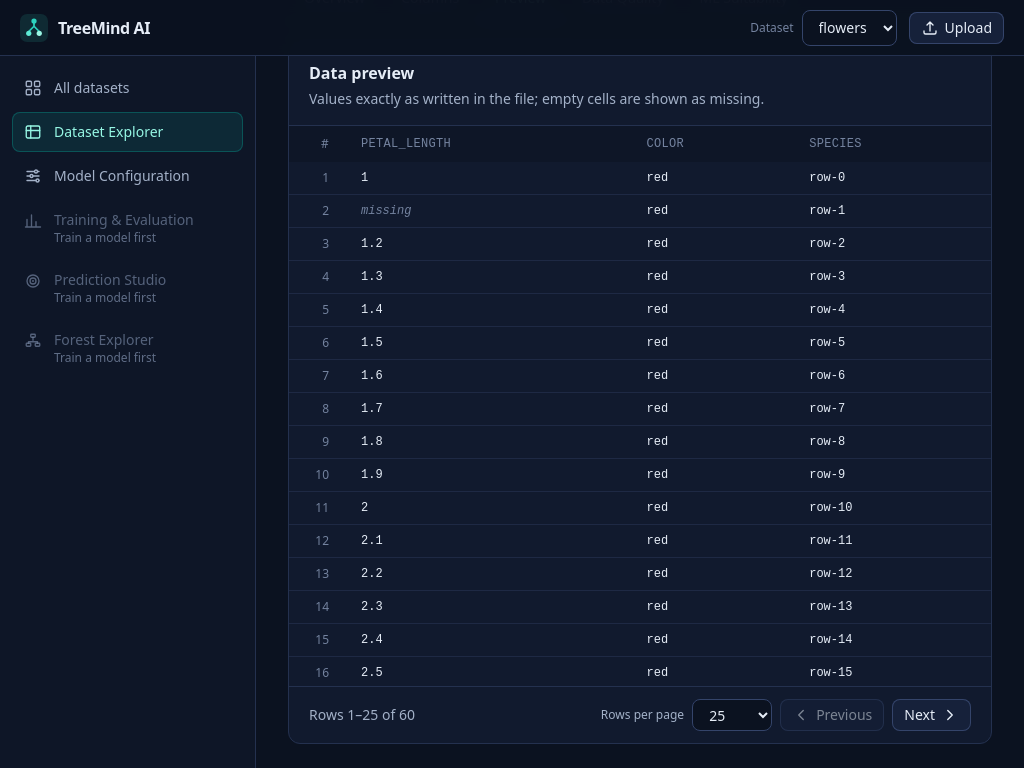
Scenario: Dataset Explorer › paginates the preview with the backend offset/limit contract
This screenshot has width=1024, height=768.
(page scrolled)
Expected: the text "row-0" is shown, left=809, top=171, right=845, bottom=185
Expected: the text "missing" is shown, left=361, top=204, right=411, bottom=218
Click the button with aria-label "Next page": (932, 715) left=892, top=699, right=971, bottom=731
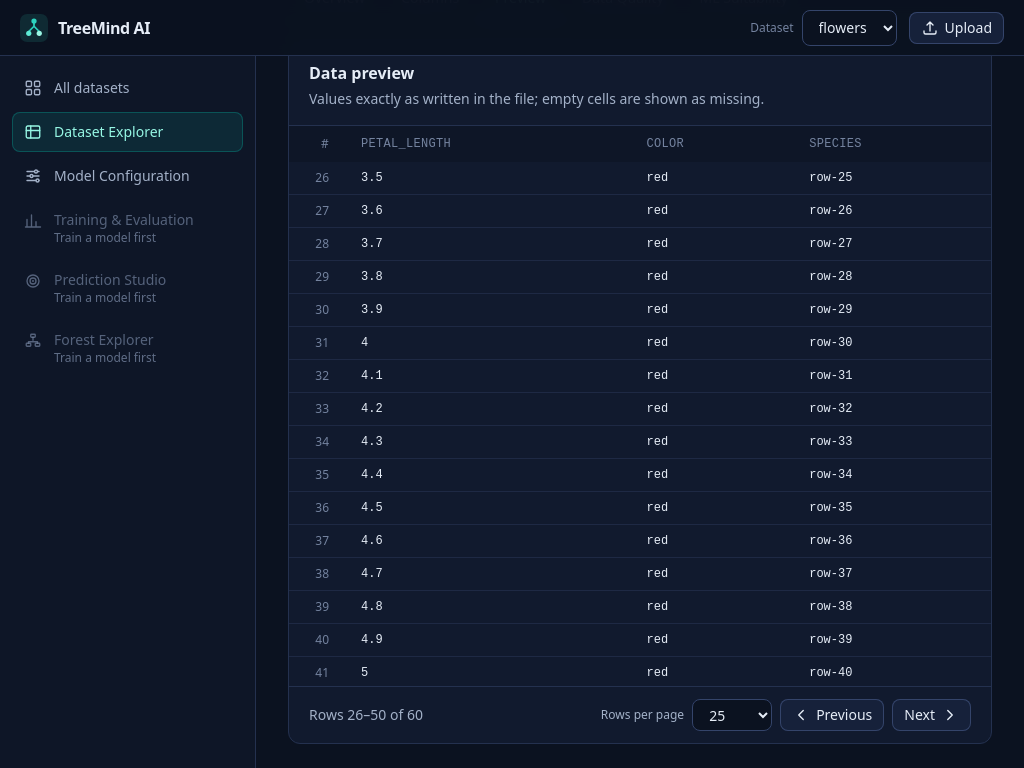
Result: the text "row-25" is shown at left=809, top=171, right=852, bottom=185
Select "50" in the dropdown labelled "Rows per page": (732, 715) left=692, top=699, right=772, bottom=731
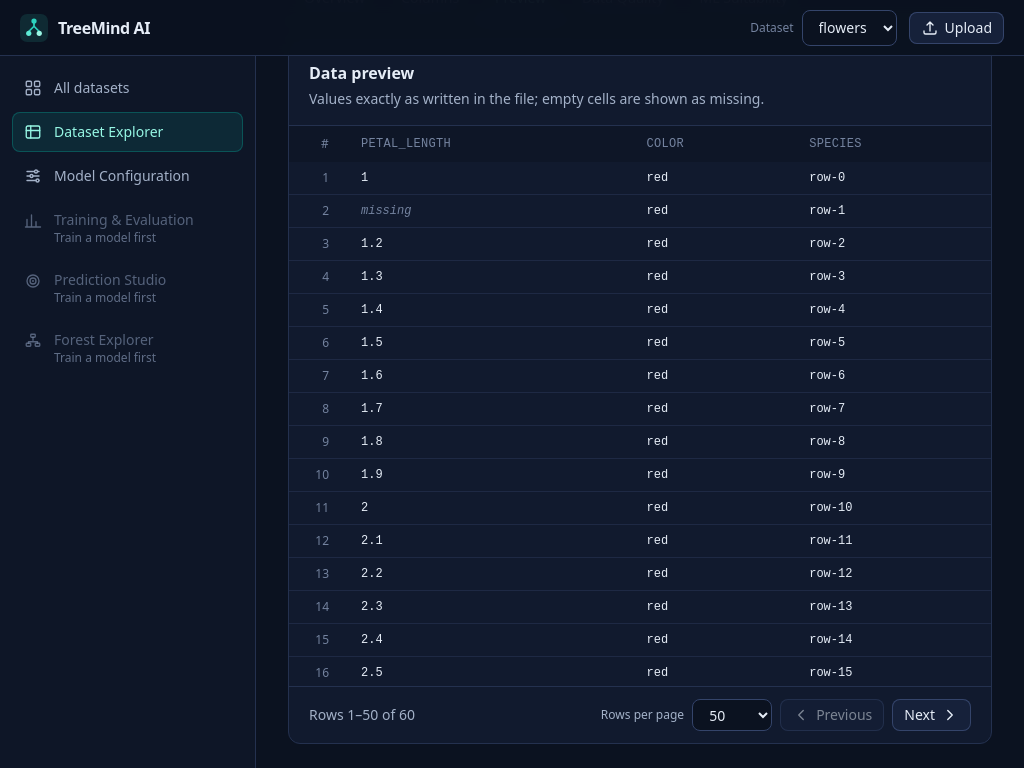
Result: the text "Rows 1–50 of 60" is shown at left=309, top=705, right=415, bottom=725
